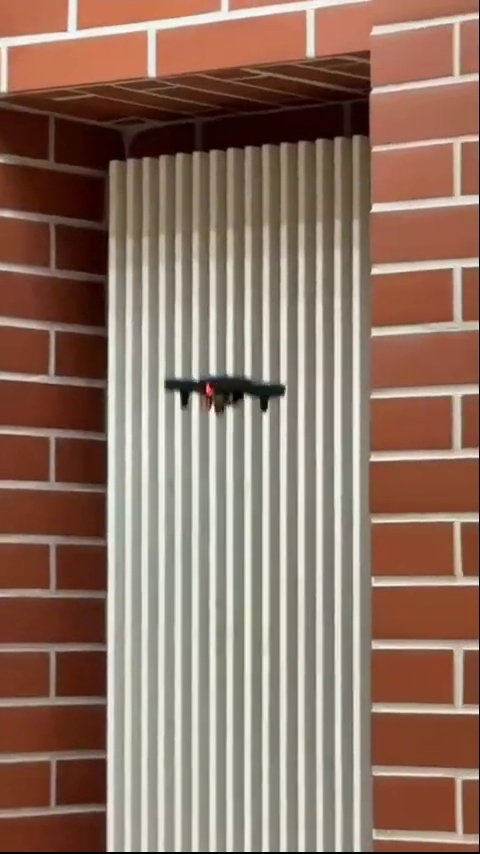drone: (164, 370, 289, 416)
